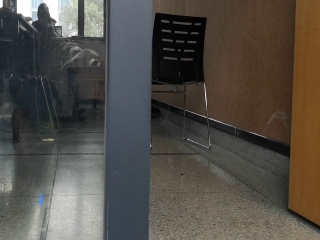room: (5, 6, 304, 238)
